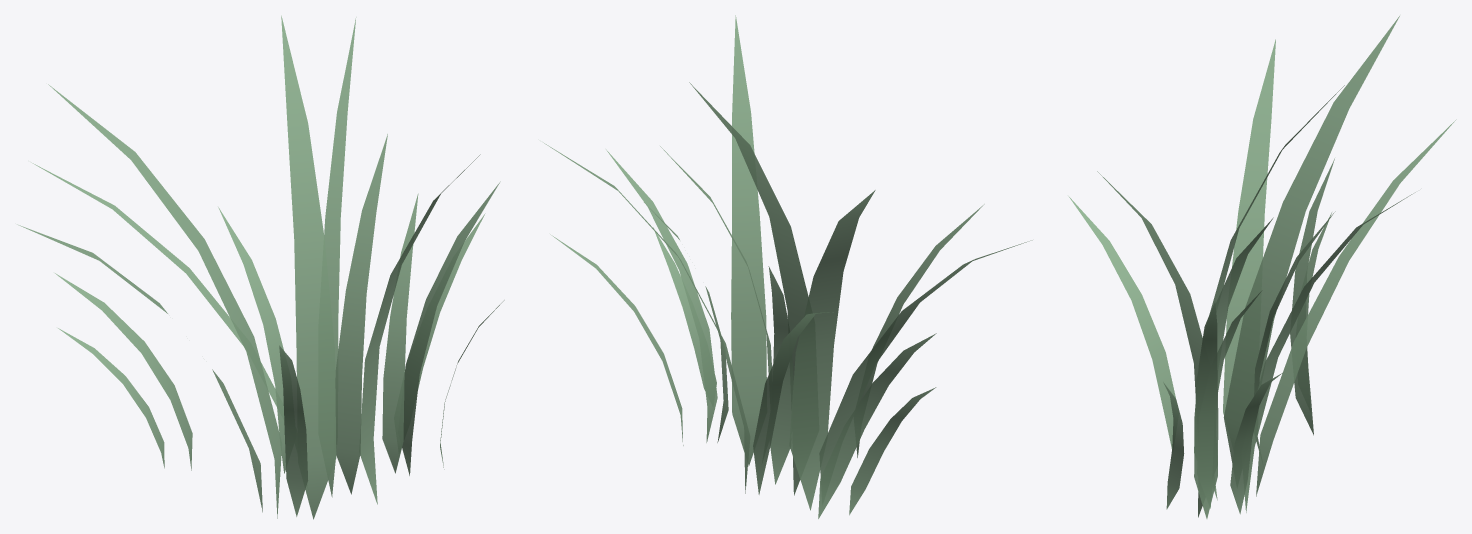
The model's file is Grass.fbx.
The picture shows the model from 3 angles, left to right: view 1: azimuth 30°, elevation 25°; view 2: azimuth 150°, elevation 25°; view 3: azimuth 270°, elevation 25°; orthographic projection. The views are drawn at different scales.
Parts seen in each view (by area): view 1: Grass; view 2: Grass; view 3: Grass.
Part boxes in pixels (x1,y1,x2,y2): Grass: (17,15,504,519); Grass: (543,15,1032,518); Grass: (1068,16,1456,518).
Bounding box in the file's own units: 131 × 118 × 94.58.
